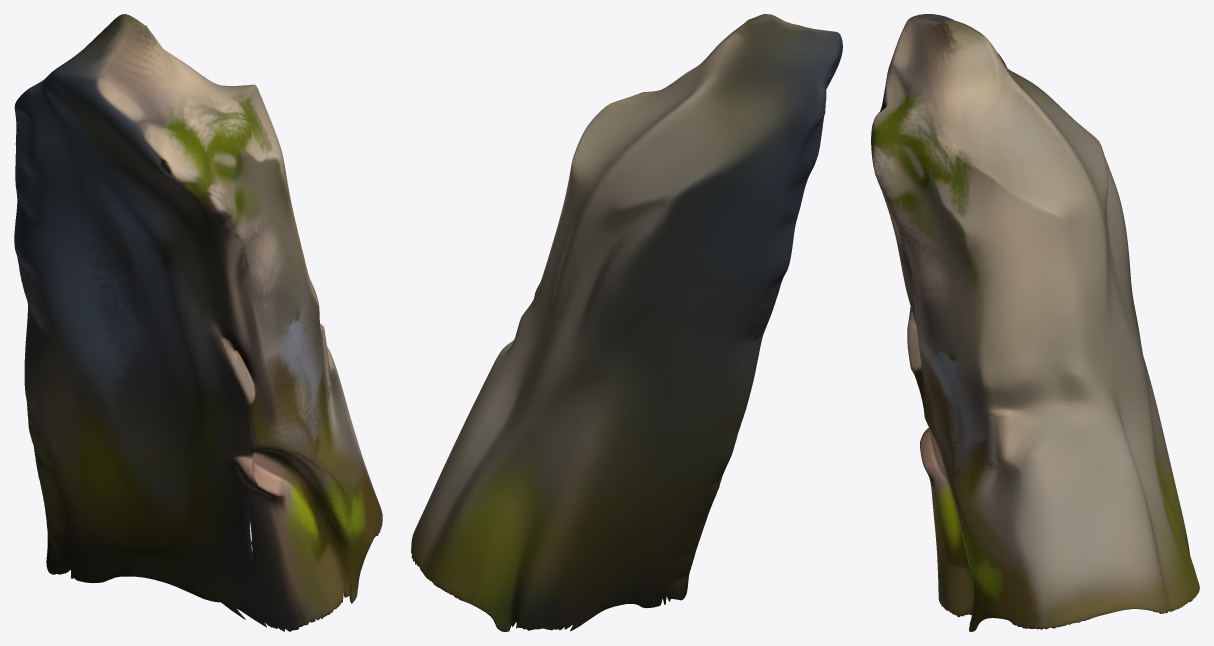
The model's file is stone_plain_tall_hunyuan_2026-11-14_b3afd598.glb.
3 views of the same model, side by side, from view 1: azimuth 30°, elevation 25°; view 2: azimuth 150°, elevation 25°; view 3: azimuth 270°, elevation 25° (orthographic). The views are drawn at different scales.
Parts seen in each view (by area): view 1: node_0; view 2: node_0; view 3: node_0.
Part boxes in pixels (bbox=[...]): node_0: bbox=[14, 14, 382, 631]; node_0: bbox=[411, 14, 842, 631]; node_0: bbox=[871, 14, 1199, 631].
Bounding box in the file's own units: 0.6659 × 1.03 × 0.5903.
Materials: 1 (1 with a texture image).
